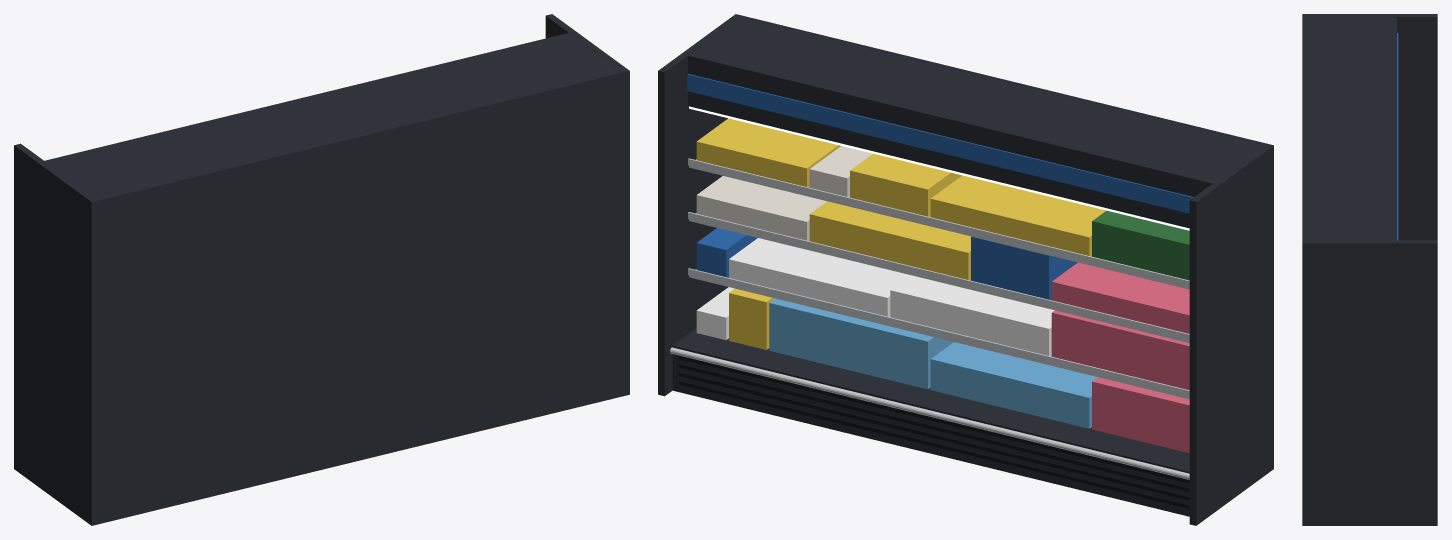
Rendered from fridge_case.glb.
3 views of the same model, side by side, from view 1: azimuth 30°, elevation 25°; view 2: azimuth 150°, elevation 25°; view 3: azimuth 270°, elevation 25° (orthographic). The views are drawn at different scales.
Parts seen in each view (by area): view 1: fridge_body; view 2: fridge_body, stock_yellow, chrome, stock_pink, stock_sky, stock_white, grille, fridge_trim, stock_cream, stock_blue, stock_green, light_white; view 3: fridge_body, fridge_trim.
Boxes of the visible parts, <box> form: fridge_body: <box>14,14,629,525</box>; fridge_body: <box>658,14,1273,525</box>; stock_yellow: <box>696,118,1106,349</box>; chrome: <box>670,158,1189,479</box>; stock_pink: <box>1051,262,1189,453</box>; stock_sky: <box>769,298,1097,428</box>; stock_white: <box>696,238,1054,356</box>; grille: <box>678,355,1189,508</box>; fridge_trim: <box>687,74,1193,213</box>; stock_cream: <box>696,146,872,241</box>; stock_blue: <box>696,228,1077,300</box>; stock_green: <box>1092,210,1189,280</box>; light_white: <box>689,106,1189,230</box>; fridge_body: <box>1302,14,1437,525</box>; fridge_trim: <box>1397,33,1398,240</box>.
Bounding box in the file's own units: 4 × 2.3 × 1.
